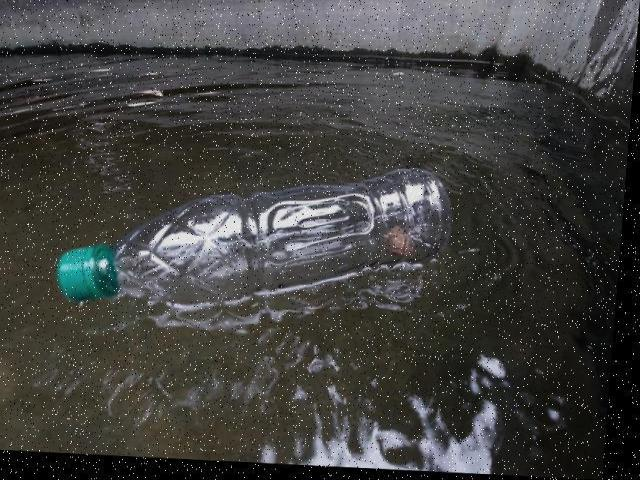Bottle: (44, 163, 458, 317)
